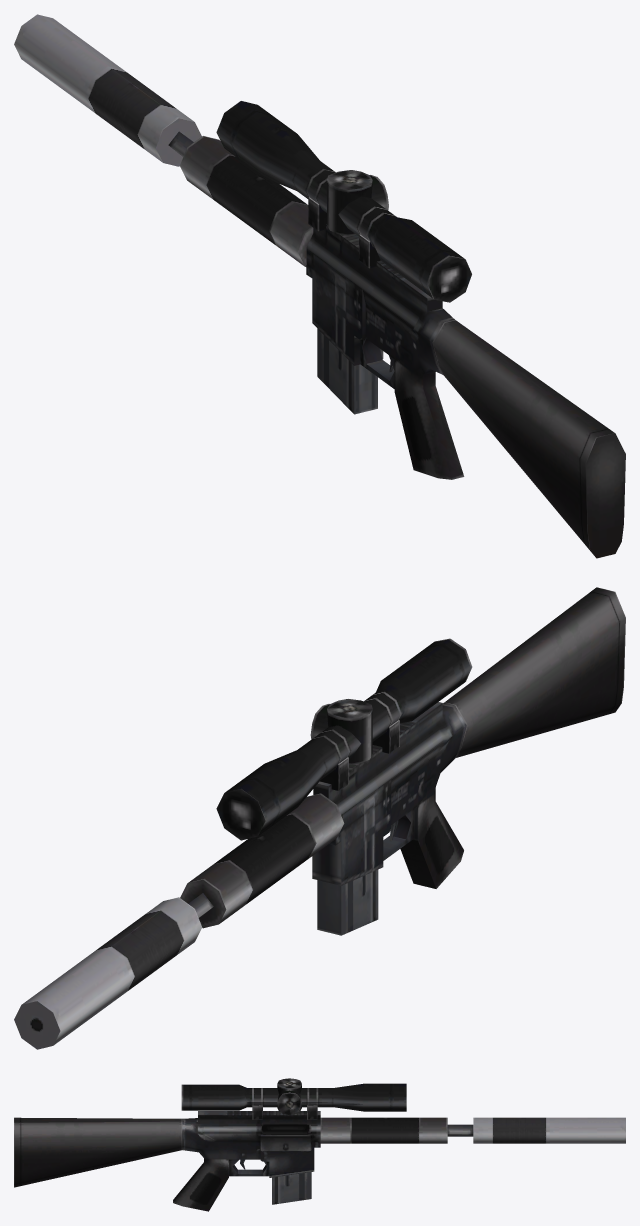
3 renders of one model, top to bottom at view 1: azimuth 30°, elevation 25°; view 2: azimuth 150°, elevation 25°; view 3: azimuth 270°, elevation 25°, orthographic. The views are drawn at different scales.
Visible parts, largest first — view 1: AR_15; view 2: AR_15; view 3: AR_15.
Part boxes in pixels (left/top/right/bottom): AR_15: left=14, top=14, right=625, bottom=558; AR_15: left=14, top=587, right=625, bottom=1049; AR_15: left=14, top=1078, right=625, bottom=1211.
Bounding box in the file's own units: 3.56 × 15.06 × 66.78.
